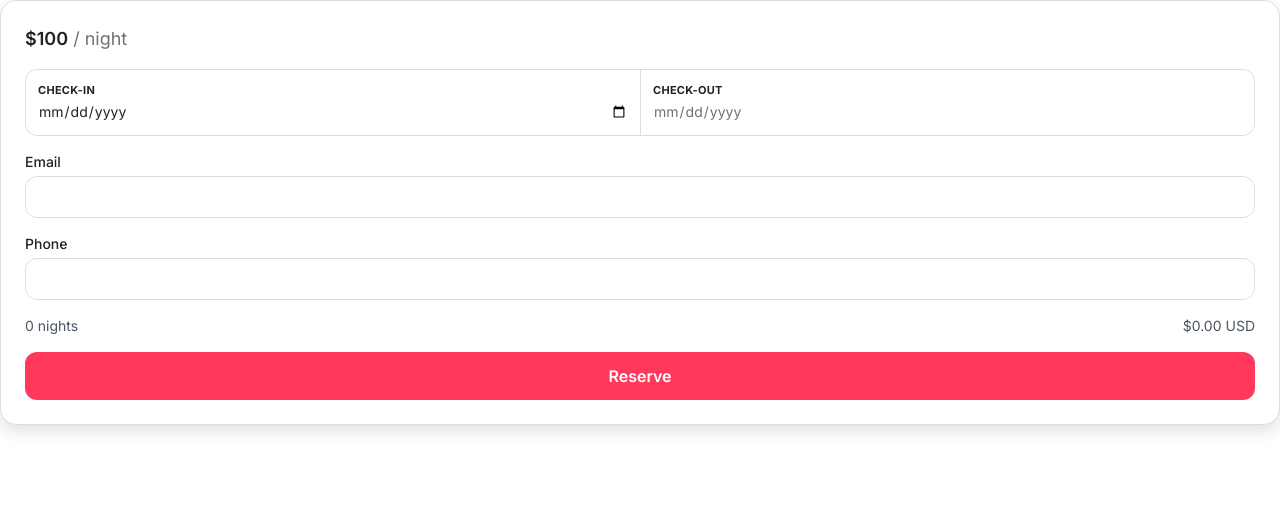
Test case: BookingForm › falls back to the response text when the booking response is not JSON
Type "2030-01-01" into the date field named "Check-in" at (333, 112), box left=38, top=100, right=628, bottom=122
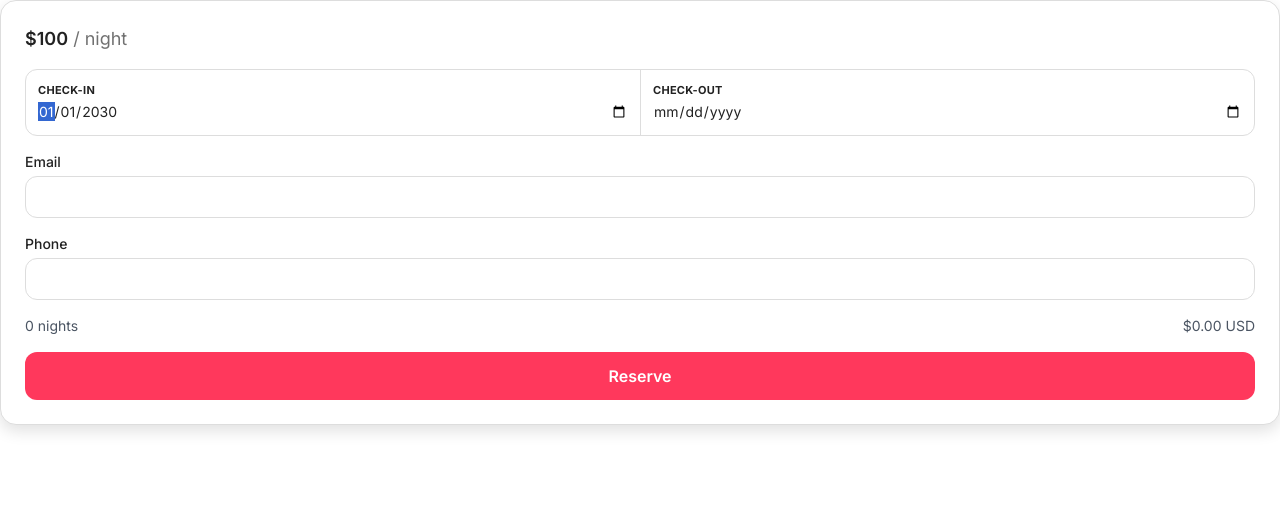
Type "2030-01-03" into the date field named "Check-out" at (948, 112), box left=653, top=100, right=1242, bottom=122
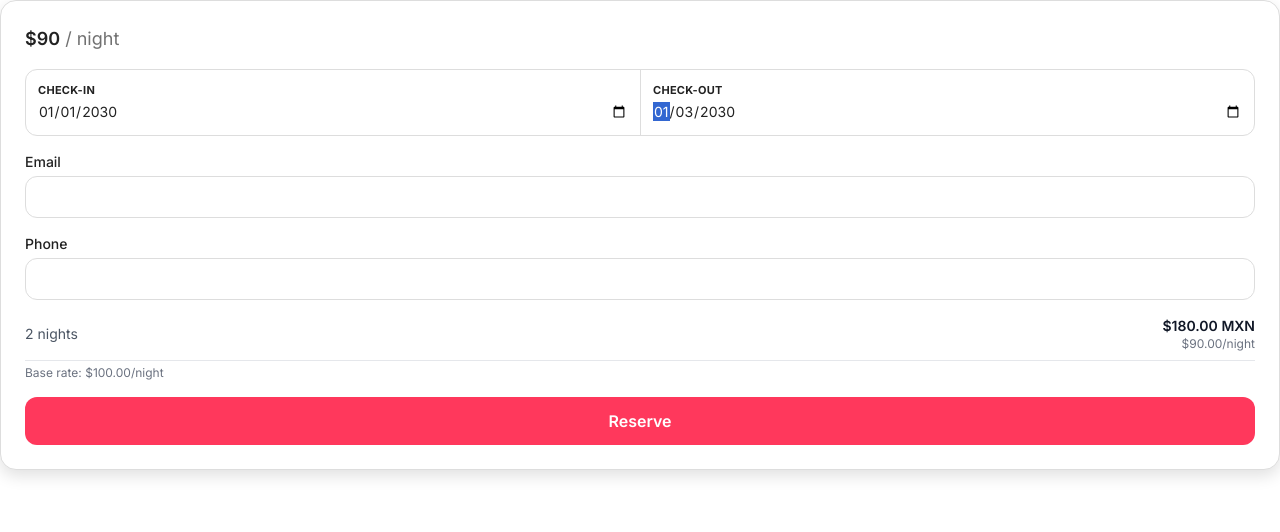
Type "guest@example.com" into the field named "Email" at (640, 196), box left=25, top=176, right=1255, bottom=218
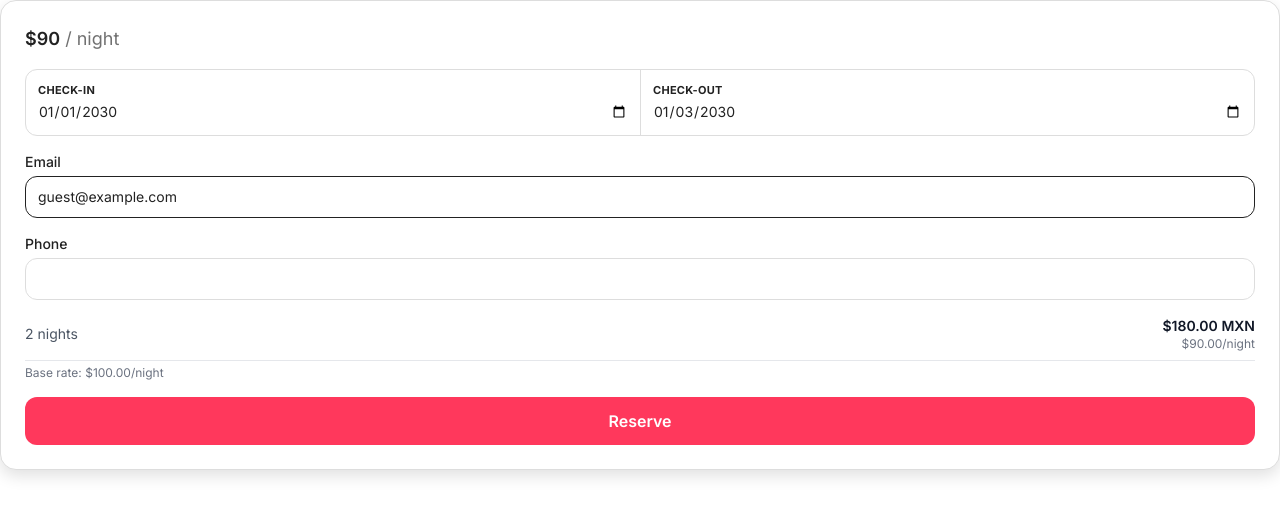
Type "5215551234" into the field named "Phone" at (640, 278), box left=25, top=258, right=1255, bottom=300
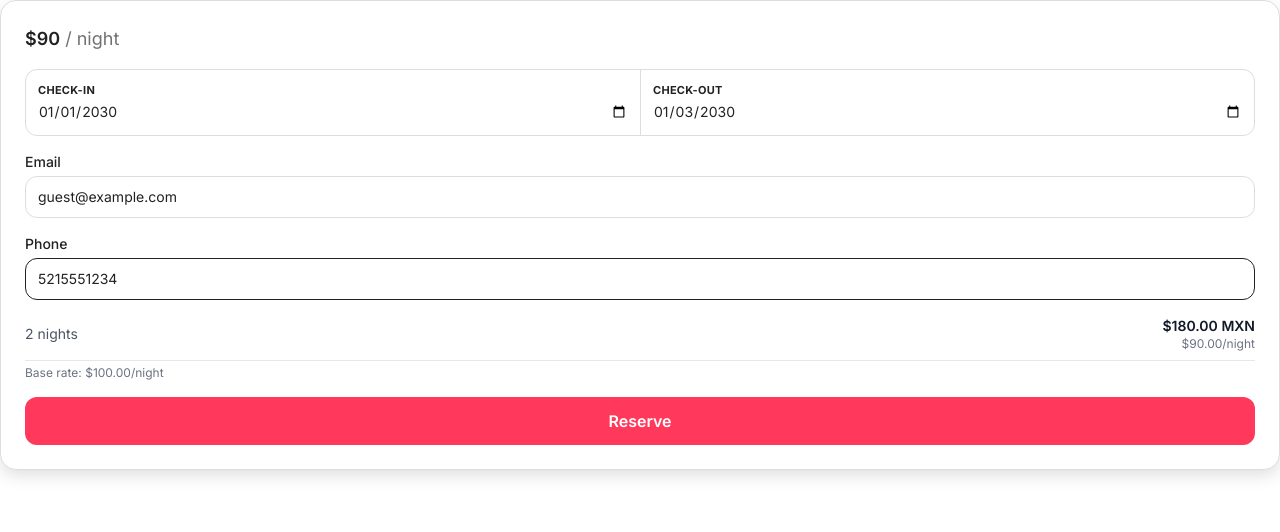
Click the button "Reserve" at (640, 420), box left=25, top=396, right=1255, bottom=444
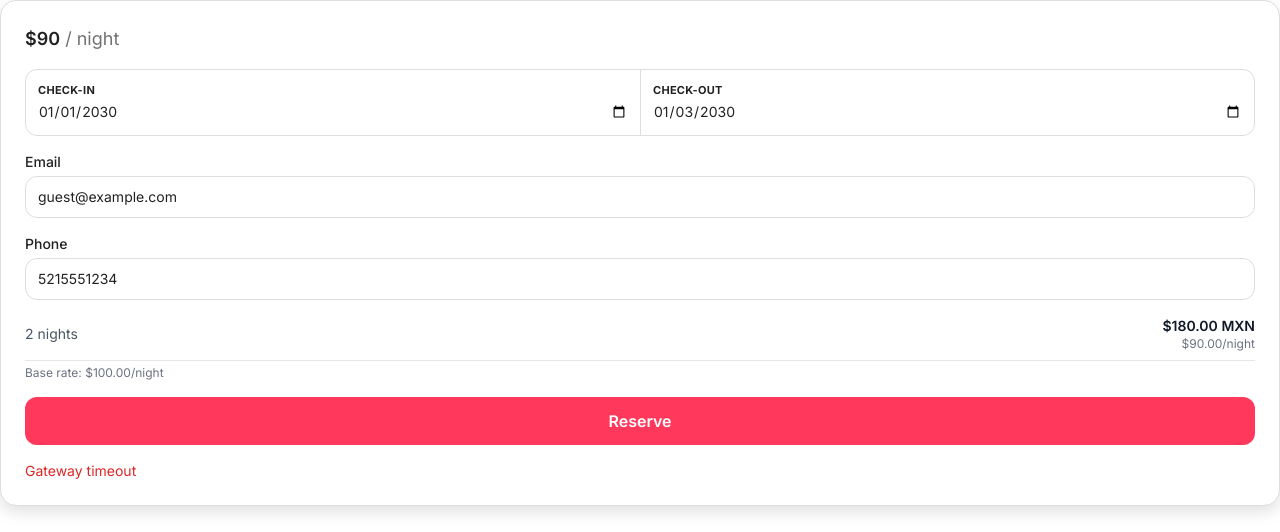
Now the text "Gateway timeout" is shown, box left=25, top=462, right=136, bottom=478
